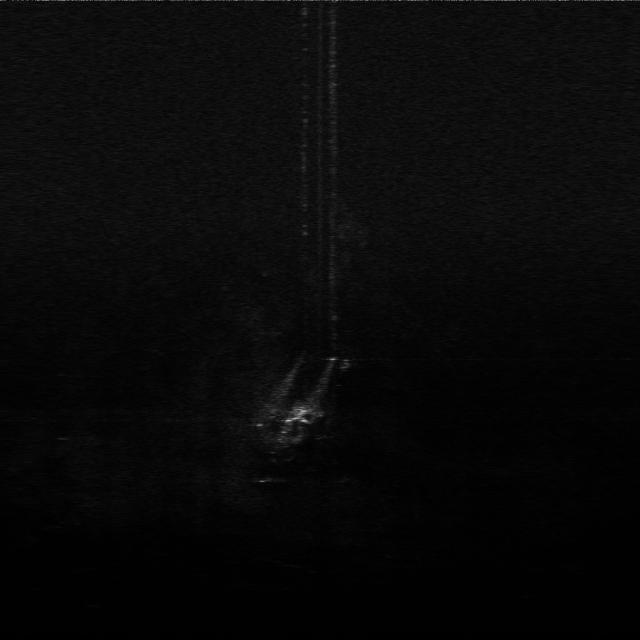rov: (283, 404, 311, 428)
